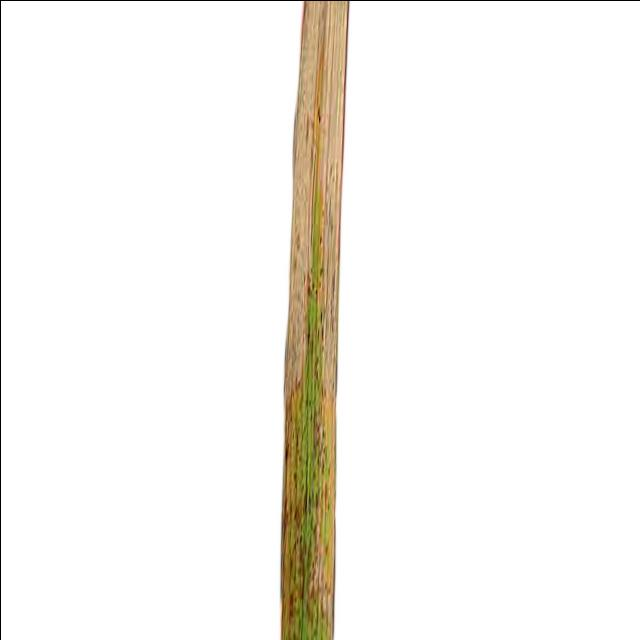Leaf scald: (53, 0, 460, 640)
